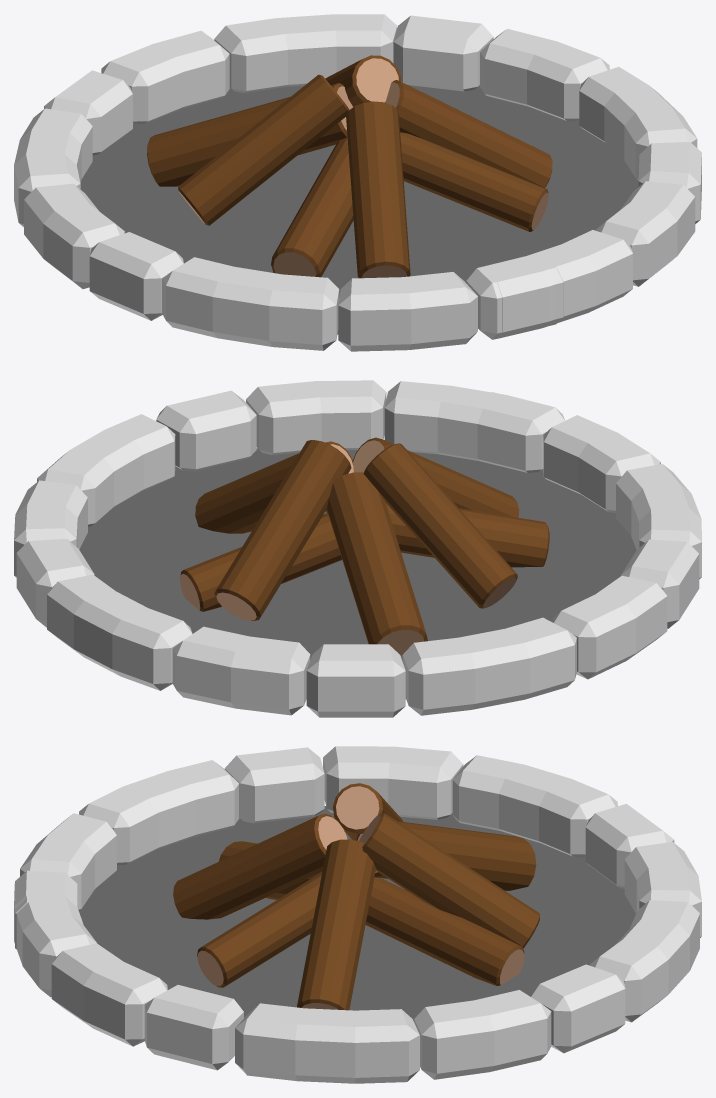
Rendered from Campfire.fbx.
The picture shows the model from 3 angles, top to bottom: view 1: azimuth 30°, elevation 25°; view 2: azimuth 150°, elevation 25°; view 3: azimuth 270°, elevation 25°; orthographic projection.
Parts seen in each view (by area): view 1: Rocks, WoodPiece.001, Circle; view 2: Rocks, WoodPiece.001, Circle; view 3: Rocks, WoodPiece.001, Circle.
Part boxes in pixels (box(x1,y1,x2,y2)): Rocks: box(14, 14, 701, 351); WoodPiece.001: box(147, 55, 552, 278); Circle: box(80, 85, 638, 334); Rocks: box(14, 380, 701, 717); WoodPiece.001: box(180, 437, 549, 655); Circle: box(79, 448, 636, 698); Rocks: box(14, 746, 701, 1083); WoodPiece.001: box(173, 783, 539, 1010); Circle: box(79, 806, 635, 1021).
Bounding box in the file's own units: 309 × 76.56 × 309.
